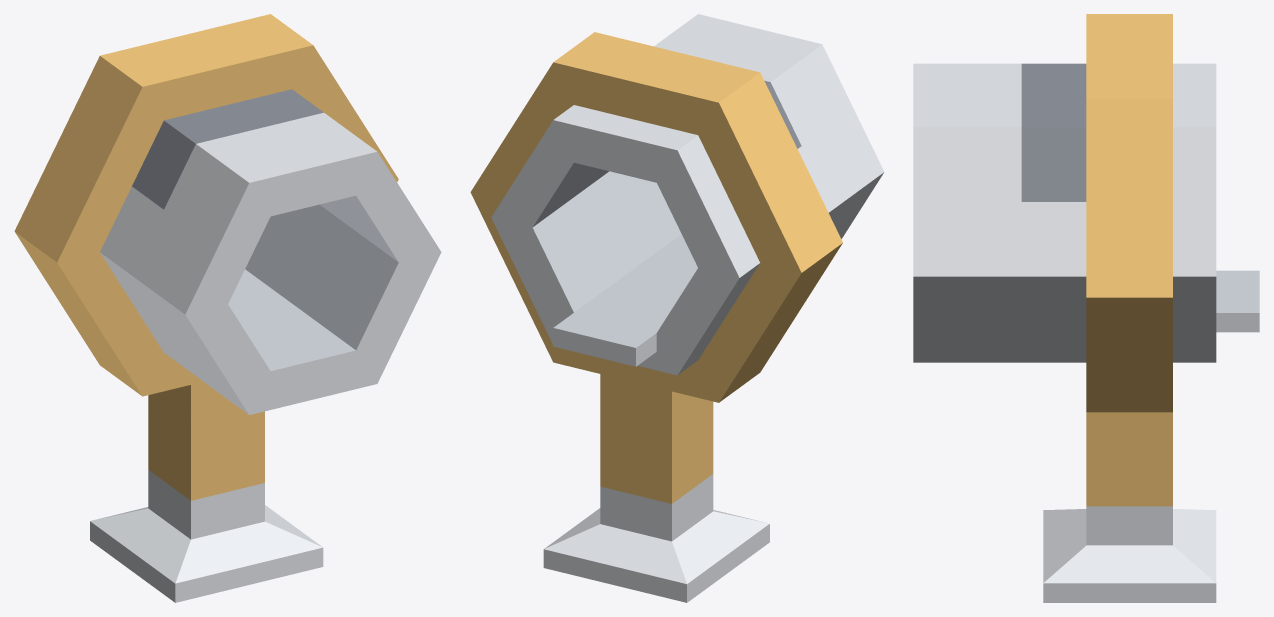
Rendered from pipe_ringHighEnd.glb.
3 views of the same model, side by side, from view 1: azimuth 30°, elevation 25°; view 2: azimuth 150°, elevation 25°; view 3: azimuth 270°, elevation 25° (orthographic). The views are drawn at different scales.
Visible parts, largest first — view 1: pipe_ringHighEnd; view 2: pipe_ringHighEnd; view 3: pipe_ringHighEnd.
Part boxes in pixels (box(x1,y1,x2,y2)): pipe_ringHighEnd: box(14, 14, 441, 602); pipe_ringHighEnd: box(470, 14, 884, 602); pipe_ringHighEnd: box(913, 14, 1259, 602).
Bounding box in the file's own units: 0.9238 × 1.3 × 0.8.
